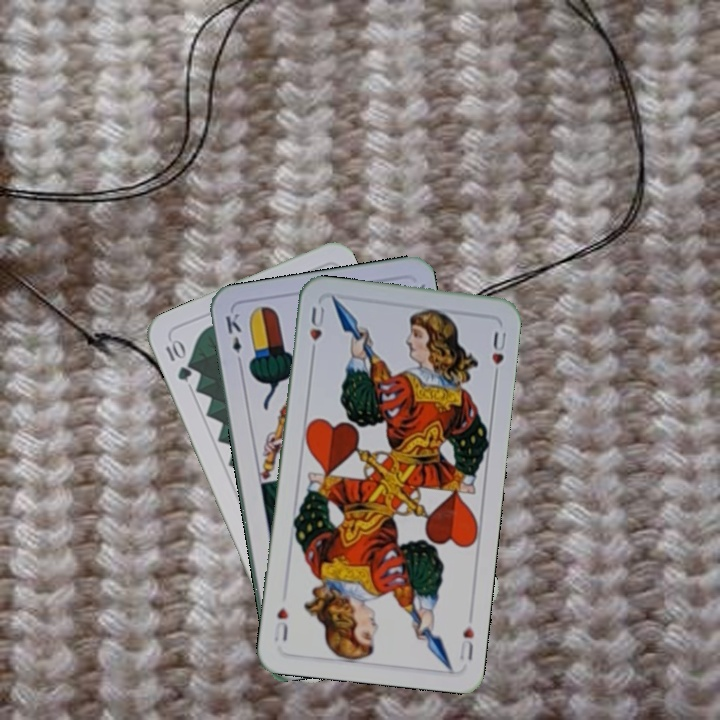EK: (221, 309, 245, 369)
G10: (161, 335, 194, 384)
HU: (305, 303, 327, 359), (456, 622, 477, 663)
